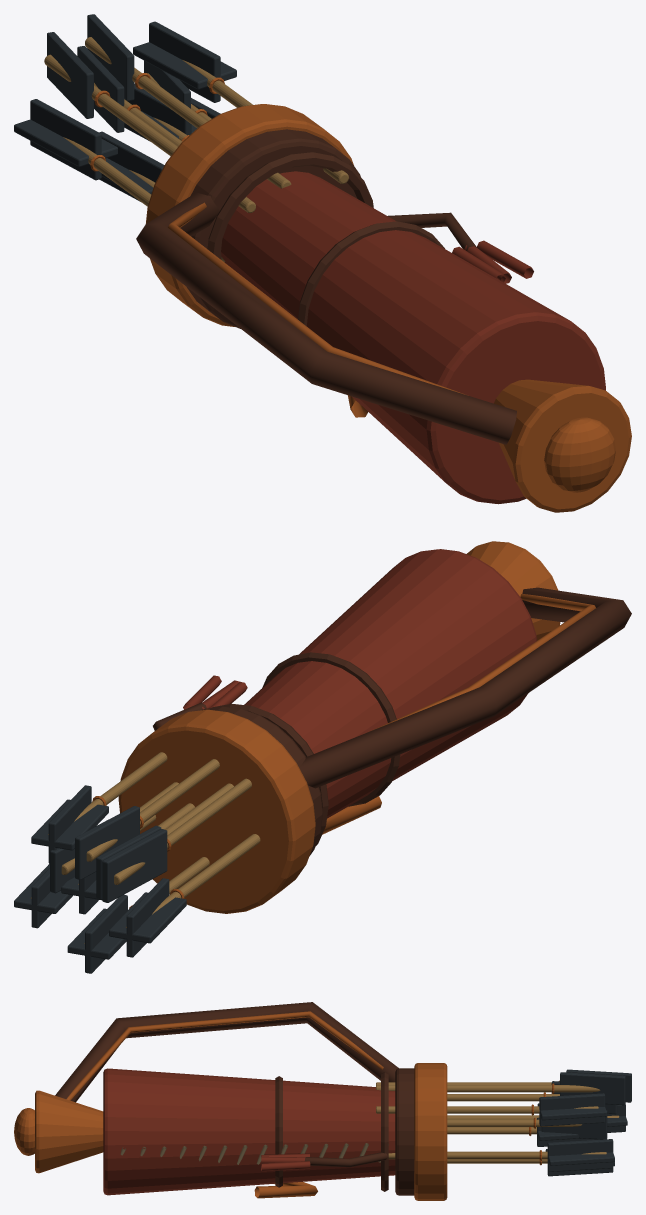
The model's file is quiver_full_LOD0.glb.
3 renders of one model, top to bottom at view 1: azimuth 30°, elevation 25°; view 2: azimuth 150°, elevation 25°; view 3: azimuth 270°, elevation 25°, orthographic. The views are drawn at different scales.
Visible parts, largest first — view 1: QuiverLeatherBody, QuiverShoulderHarness, QuiverBronzeToe, QuiverMouthRim, QuiverMouthLeather, QuiverToeBoss, QuiverLeatherBinding.002, QuiverHarnessEdge, QuiverArrowFeather.010, QuiverArrowFeather.001, QuiverArrowFeather.013, QuiverLeatherBinding.001 (+15 smaller); view 2: QuiverLeatherBody, QuiverMouthRim, QuiverShoulderHarness, QuiverBronzeToe, QuiverArrowFeather.010, QuiverArrowFeather.014, QuiverLeatherBinding.001, QuiverHarnessEdge, QuiverMouthLeather, QuiverArrowFeather, QuiverArrowFeather.011, QuiverArrowShaft.005 (+15 smaller); view 3: QuiverLeatherBody, QuiverShoulderHarness, QuiverMouthRim, QuiverBronzeToe, QuiverMouthLeather, QuiverHarnessEdge, QuiverArrowFeather.013, QuiverArrowFeather.009, QuiverArrowFeather.014, QuiverArrowShaft.007, QuiverArrowShaft.004, QuiverLeatherBinding.002 (+18 smaller).
Part boxes in pixels (box(x1,y1,x2,y2)): QuiverLeatherBody: box(221, 171, 605, 504); QuiverShoulderHarness: box(136, 192, 516, 444); QuiverBronzeToe: box(494, 379, 631, 512); QuiverMouthRim: box(146, 104, 353, 326); QuiverMouthLeather: box(187, 129, 360, 328); QuiverToeBoss: box(544, 417, 615, 492); QuiverLeatherBinding.002: box(207, 152, 373, 257); QuiverHarnessEdge: box(168, 202, 468, 395); QuiverArrowFeather.010: box(47, 32, 93, 118); QuiverArrowFeather.001: box(30, 99, 101, 180); QuiverArrowFeather.013: box(149, 21, 220, 102); QuiverLeatherBinding.001: box(298, 221, 444, 325); QuiverLeatherBody: box(244, 549, 537, 818); QuiverMouthRim: box(118, 709, 315, 913); QuiverShoulderHarness: box(299, 587, 631, 788); QuiverBronzeToe: box(467, 541, 560, 640); QuiverArrowFeather.010: box(102, 829, 167, 902); QuiverArrowFeather.014: box(75, 806, 139, 879); QuiverLeatherBinding.001: box(262, 652, 400, 806); QuiverHarnessEdge: box(369, 593, 595, 731); QuiverMouthLeather: box(202, 706, 322, 855); QuiverArrowFeather: box(109, 892, 186, 943); QuiverArrowFeather.011: box(102, 830, 166, 902); QuiverArrowShaft.005: box(114, 778, 251, 884); QuiverLeatherBody: box(103, 1068, 395, 1195); QuiverShoulderHarness: box(55, 1002, 398, 1102); QuiverMouthRim: box(414, 1063, 447, 1200); QuiverBronzeToe: box(35, 1090, 103, 1173); QuiverMouthLeather: box(395, 1068, 414, 1195); QuiverHarnessEdge: box(66, 1011, 383, 1100); QuiverArrowFeather.013: box(539, 1093, 605, 1126); QuiverArrowFeather.009: box(547, 1139, 613, 1171); QuiverArrowFeather.014: box(560, 1072, 625, 1105); QuiverArrowShaft.007: box(376, 1085, 600, 1092); QuiverArrowShaft.004: box(388, 1151, 606, 1159); QuiverLeatherBinding.002: box(381, 1072, 388, 1191).
Bounding box in the file's own units: 0.5757 × 0.3333 × 1.41.
